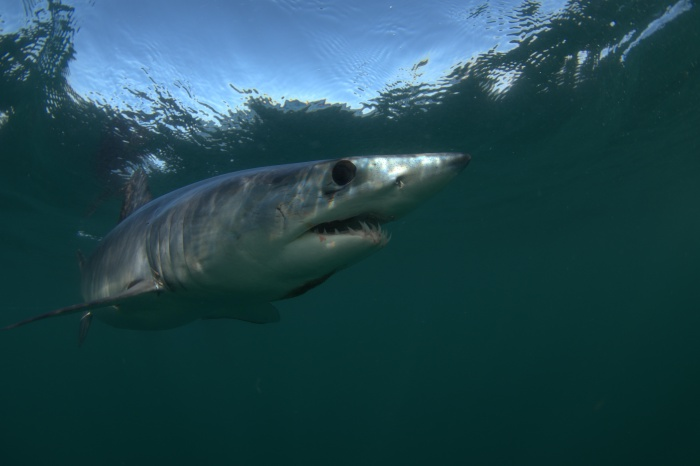Mako: (1, 138, 491, 364)
